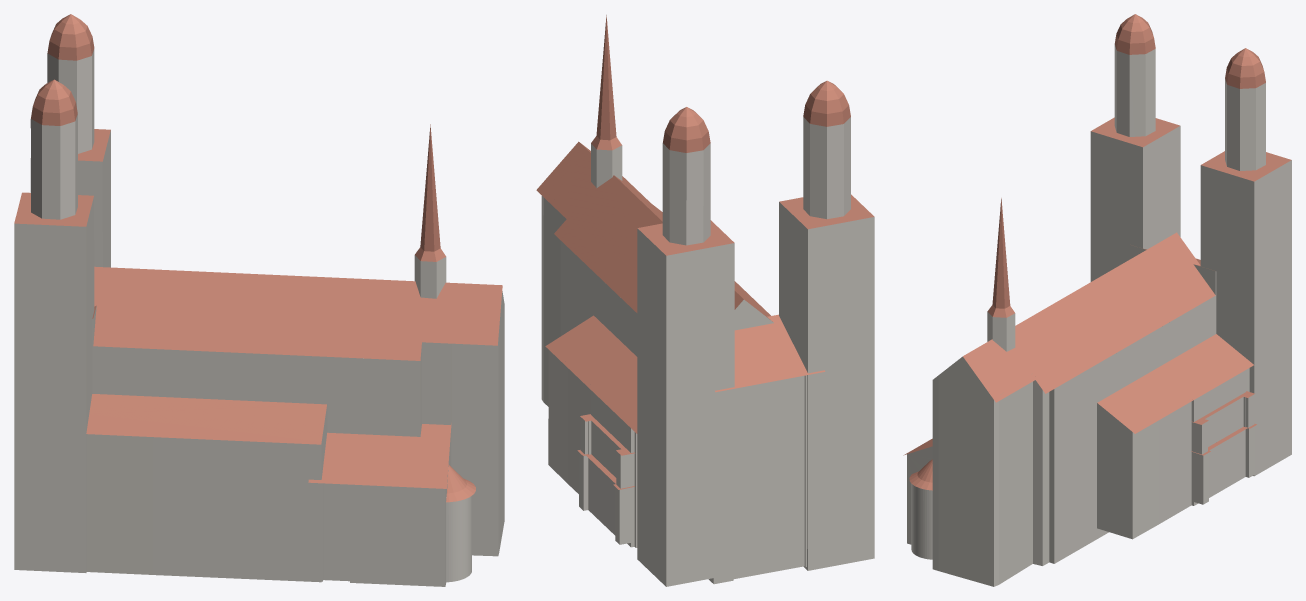
3 views of the same model, side by side, from view 1: azimuth 30°, elevation 25°; view 2: azimuth 150°, elevation 25°; view 3: azimuth 270°, elevation 25° (orthographic). The views are drawn at different scales.
Visible parts, largest first — view 1: swisstopo:swissbuildings3d:672464ac-841b-4a97-b026-71395bdbf; view 2: swisstopo:swissbuildings3d:672464ac-841b-4a97-b026-71395bdbf; view 3: swisstopo:swissbuildings3d:672464ac-841b-4a97-b026-71395bdbf.
Boxes of the visible parts, x1,y1,x2,y2 form: swisstopo:swissbuildings3d:672464ac-841b-4a97-b026-71395bdbf: [14, 14, 504, 586]; swisstopo:swissbuildings3d:672464ac-841b-4a97-b026-71395bdbf: [536, 15, 874, 586]; swisstopo:swissbuildings3d:672464ac-841b-4a97-b026-71395bdbf: [903, 14, 1291, 586].
Size of the model in its own units: 55.64 by 60.6 by 51.04.
